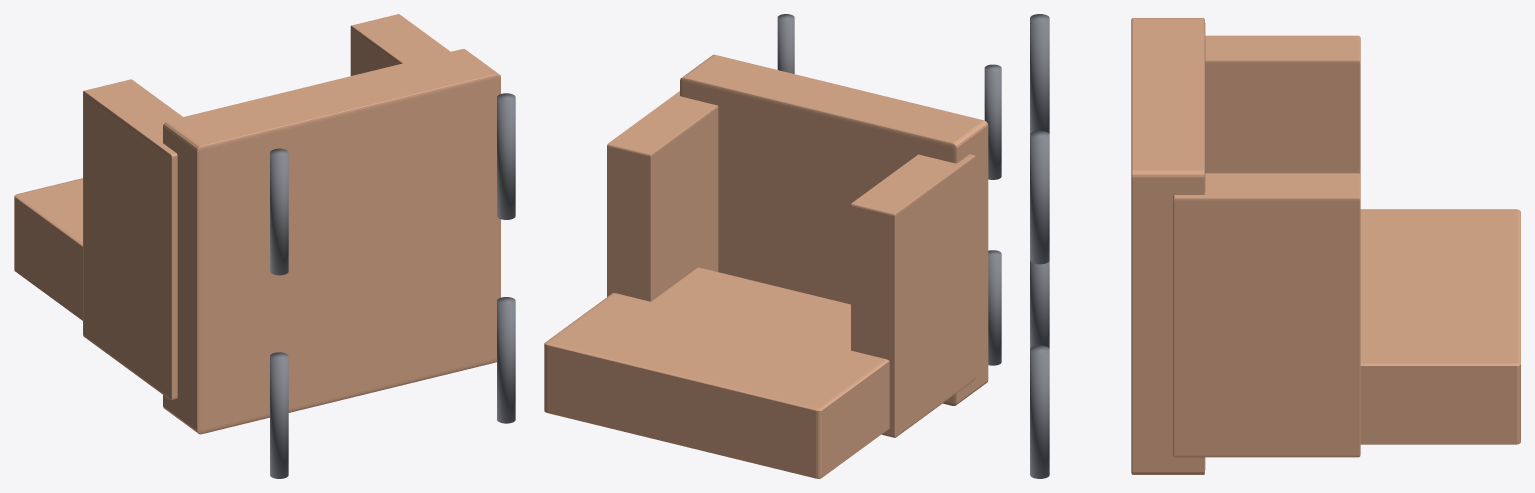
Rendered from armchair.glb.
3 renders of one model, left to right at view 1: azimuth 30°, elevation 25°; view 2: azimuth 150°, elevation 25°; view 3: azimuth 270°, elevation 25°, orthographic. The views are drawn at different scales.
Visible parts, largest first — view 1: seat, arm_l, back, arm_r, leg_-0.28_1, leg_0.28_2, leg_-0.28_2, leg_0.28_1; view 2: back, seat, arm_l, arm_r, leg_-0.28_1, leg_-0.28_2, leg_0.28_1; view 3: arm_r, back, seat, arm_l, leg_0.28_1, leg_0.28_2, leg_-0.28_1, leg_-0.28_2.
Boxes of the visible parts, bbox=[...] form: seat: bbox=[163, 49, 500, 434]; arm_l: bbox=[83, 79, 182, 400]; back: bbox=[14, 178, 82, 320]; arm_r: bbox=[350, 14, 450, 75]; leg_-0.28_1: bbox=[270, 148, 288, 275]; leg_0.28_2: bbox=[497, 297, 515, 423]; leg_-0.28_2: bbox=[270, 352, 288, 478]; leg_0.28_1: bbox=[497, 93, 515, 219]; back: bbox=[544, 267, 889, 478]; seat: bbox=[680, 54, 988, 405]; arm_l: bbox=[851, 154, 975, 437]; arm_r: bbox=[607, 91, 718, 301]; leg_-0.28_1: bbox=[984, 64, 1001, 179]; leg_-0.28_2: bbox=[988, 250, 1001, 365]; leg_0.28_1: bbox=[777, 14, 794, 73]; arm_r: bbox=[1173, 173, 1360, 457]; back: bbox=[1360, 209, 1520, 444]; seat: bbox=[1131, 18, 1205, 474]; arm_l: bbox=[1205, 35, 1360, 174]; leg_0.28_1: bbox=[1030, 130, 1049, 264]; leg_0.28_2: bbox=[1030, 345, 1049, 478]; leg_-0.28_1: bbox=[1030, 14, 1049, 133]; leg_-0.28_2: bbox=[1030, 261, 1049, 348].
Size of the model in its own units: 0.78 by 0.76 by 0.995.
